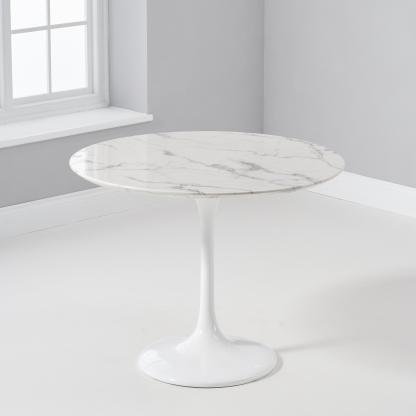table: (69, 128, 368, 385)
